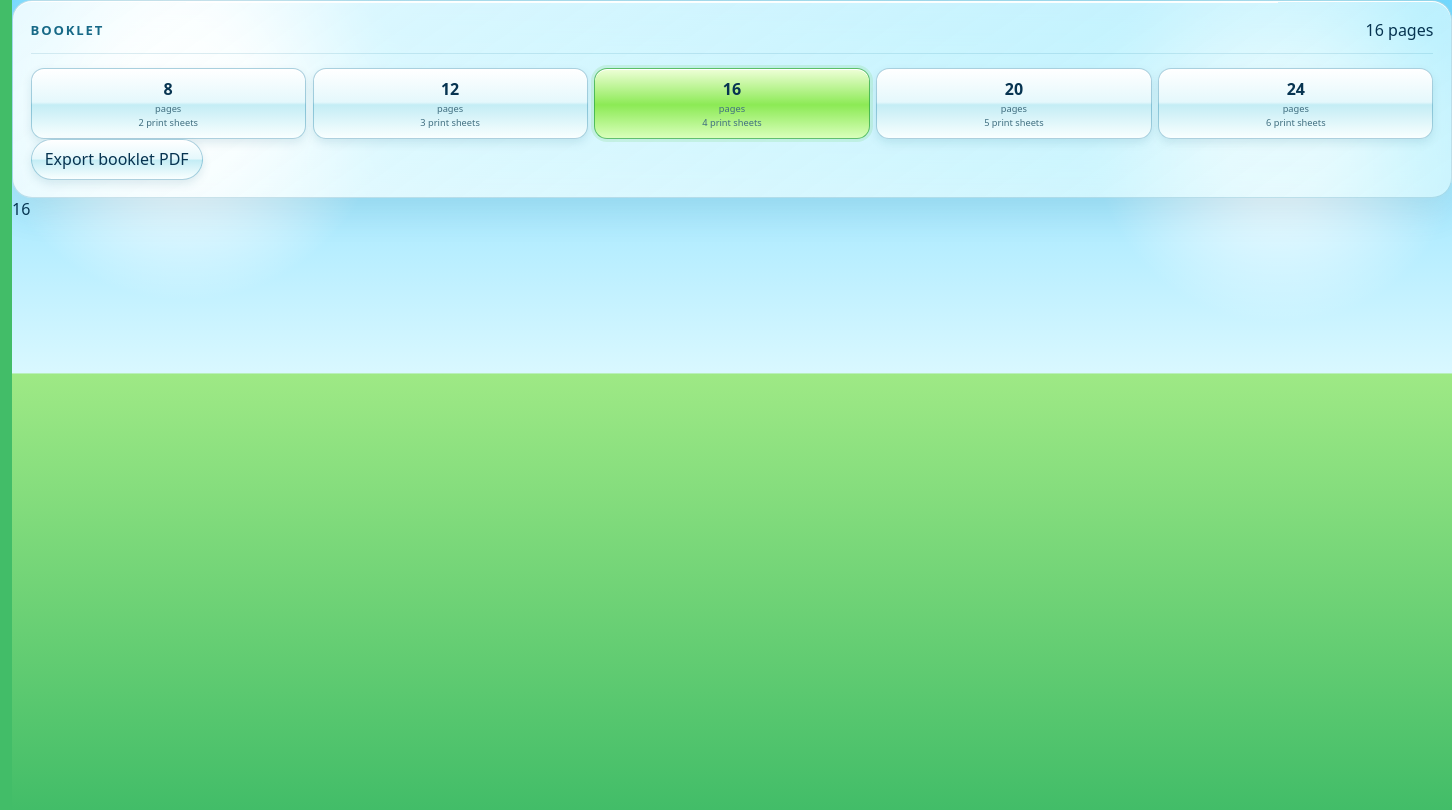
Scenario: booklet rules › shows the export failure inline instead of staying silent
The width and height of the screenshot is (1452, 810).
Step 1. Click the button with test id "export-booklet" → (117, 159), box [31, 139, 203, 180]
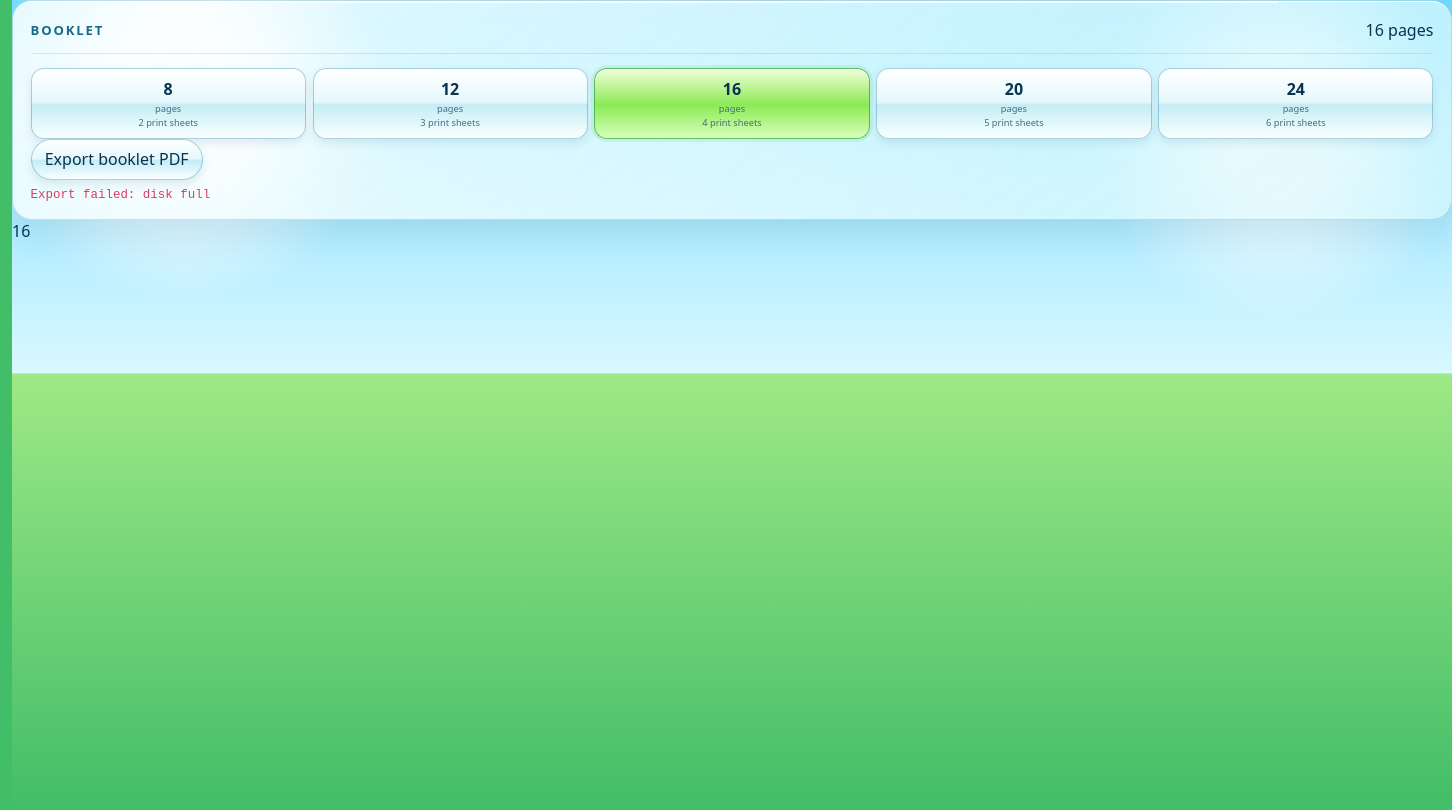
Expected: the message with test id "export-message" reads "Export failed: disk full", [31, 188, 210, 202]
